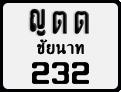letters: (29, 9, 46, 36), (32, 61, 50, 85), (52, 61, 70, 85), (52, 10, 68, 35), (72, 62, 90, 84), (74, 10, 89, 34)
province: (37, 39, 85, 55)
